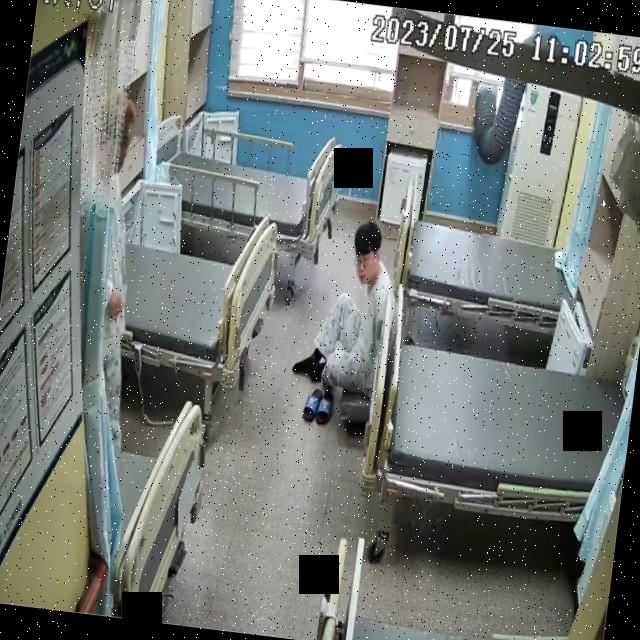bed: (355, 282, 632, 535), (388, 163, 591, 341), (99, 202, 282, 386), (162, 122, 342, 258)
danger: (290, 212, 408, 388)
patient: (290, 216, 410, 397)
